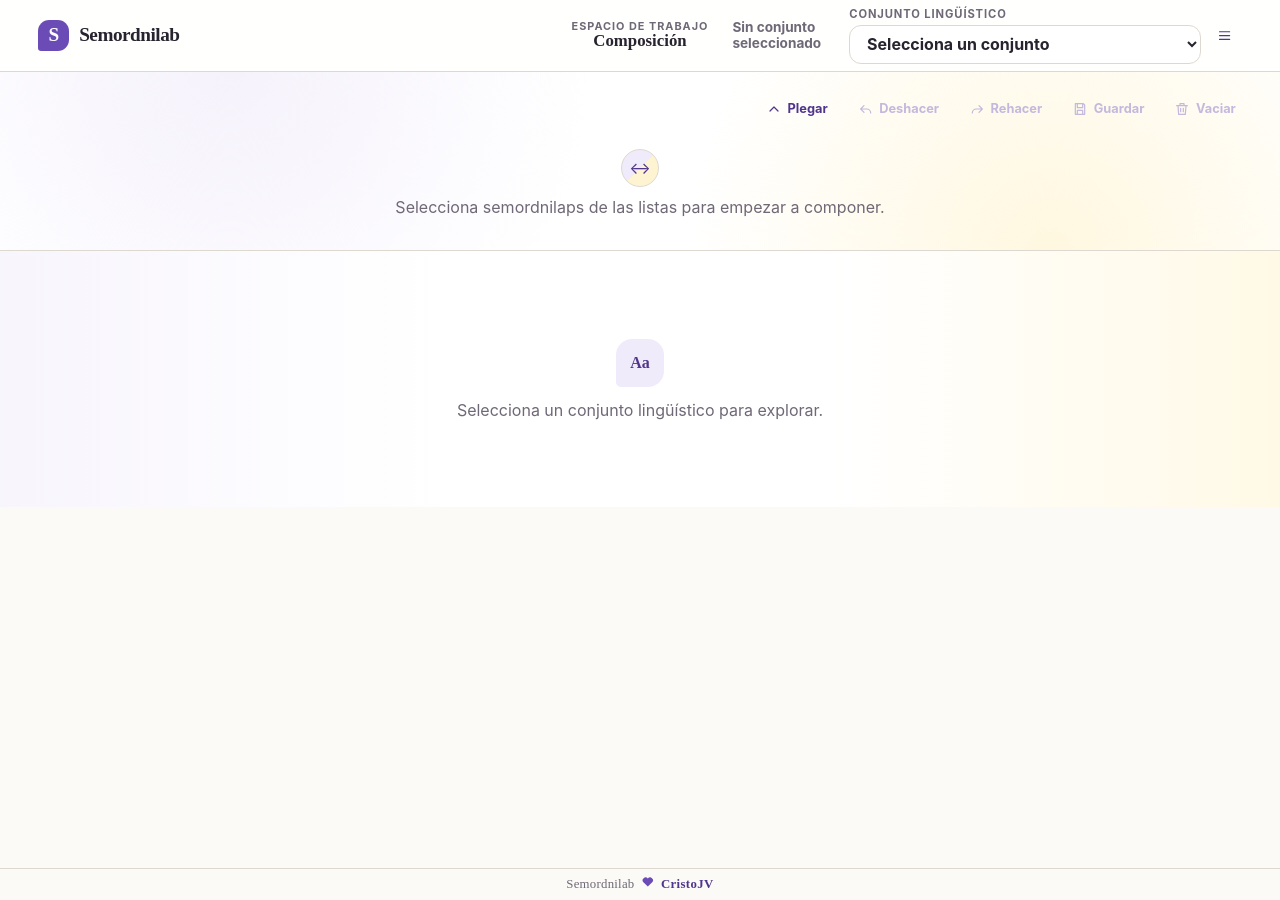
Test: WorkspacePage › mantiene estable un favorito y conserva alineado el catálogo descartado
The image size is (1280, 900).
Select "Español / Gallego" in the dropdown labelled "Conjunto lingüístico": [1025, 44] box [849,25,1201,64]
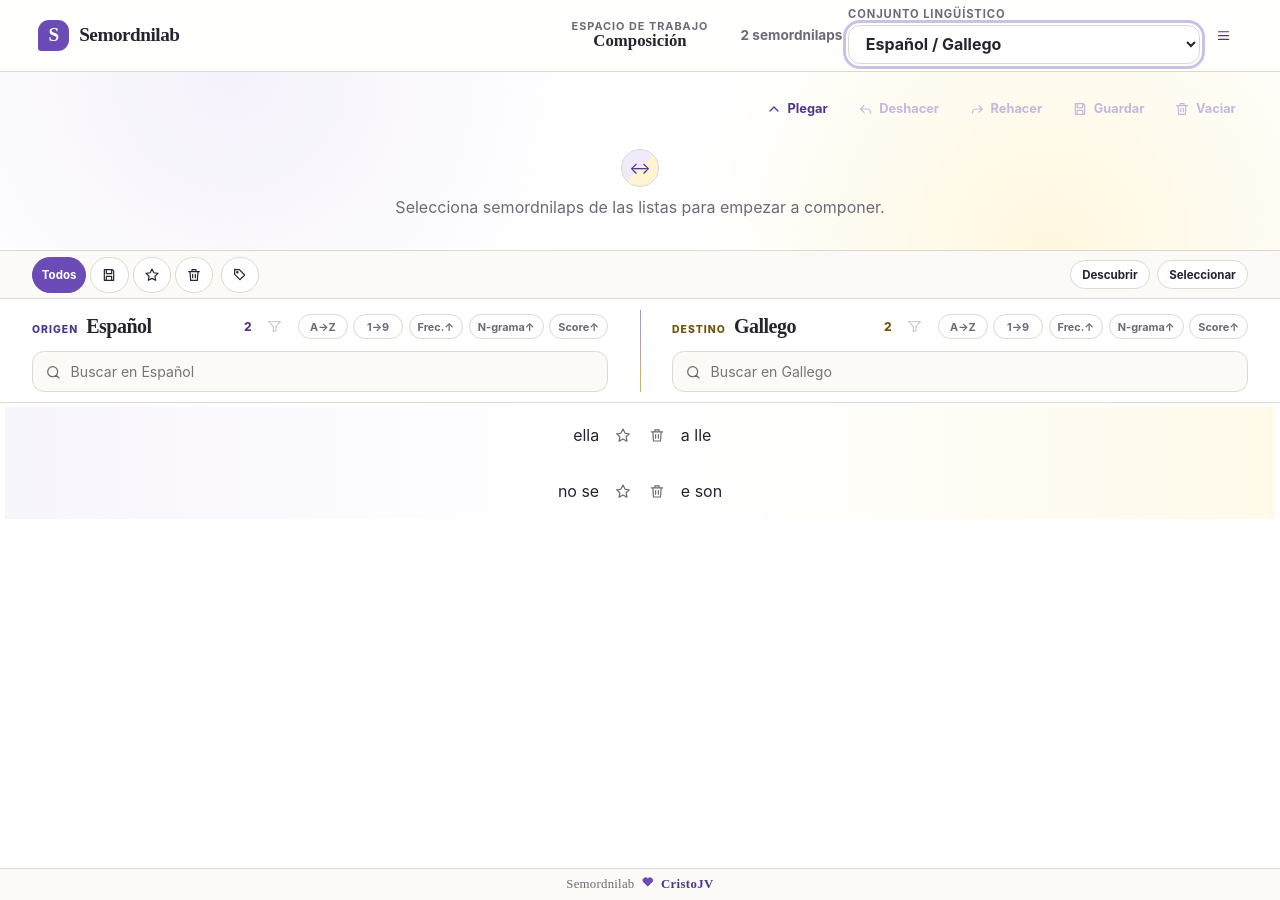
Expected: the button named "Añadir a favoritos: no se / e son" is enabled
Click the button named "Añadir a favoritos: no se / e son": [623, 492] box [608,476,638,507]
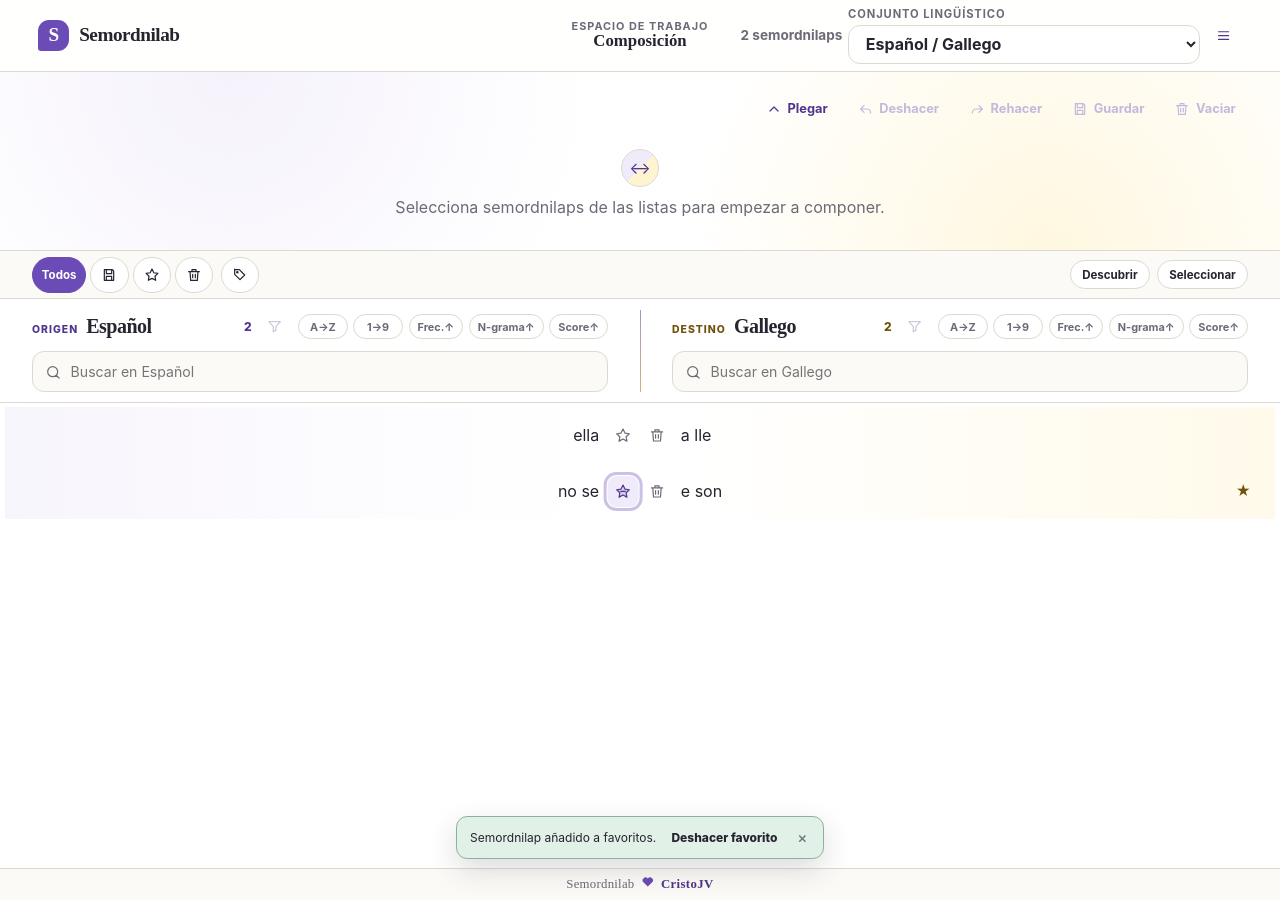
Expected: the list item "ella a lle" is shown, [5,408,1275,464]
Expected: the list item "no se e son ★" is shown, [5,464,1275,520]
Expected: the button named "Quitar de favoritos: no se / e son" is shown, [608,476,638,507]
Click the button "Deshacer favorito": [724, 838] box [667,828,782,847]
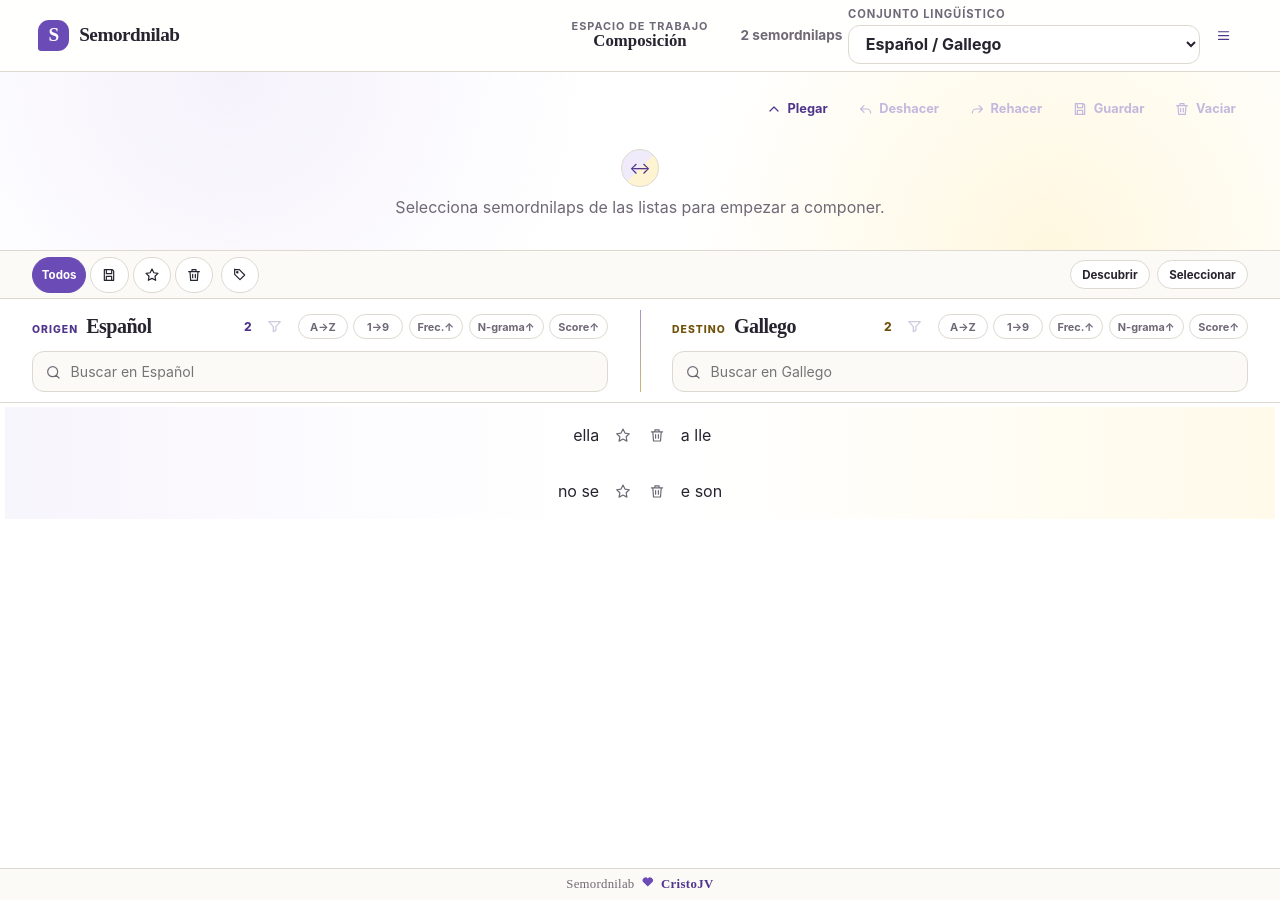
Expected: the button named "Añadir a favoritos: no se / e son" is shown, [608,476,638,507]
Click the button named "Descartar: ella / a lle": [657, 436] box [642,420,672,451]
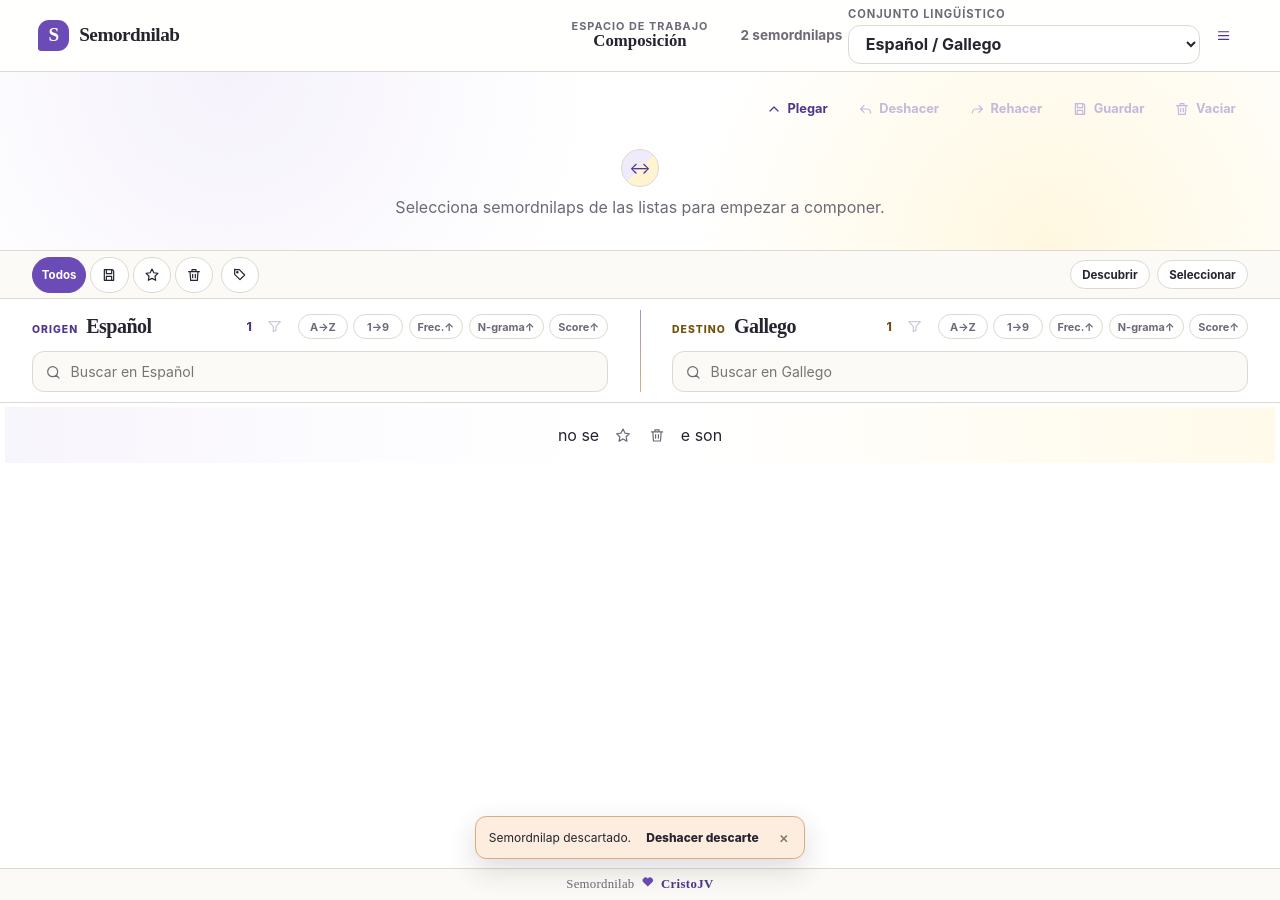
Expected: the list item shows "no se", [5,408,640,464]
Expected: the list item shows "e son", [640,408,1275,464]
Expected: the number of list items is 1, [5,408,1275,464]
Click the button named "Descartados 1": [194, 275] box [175,257,213,293]
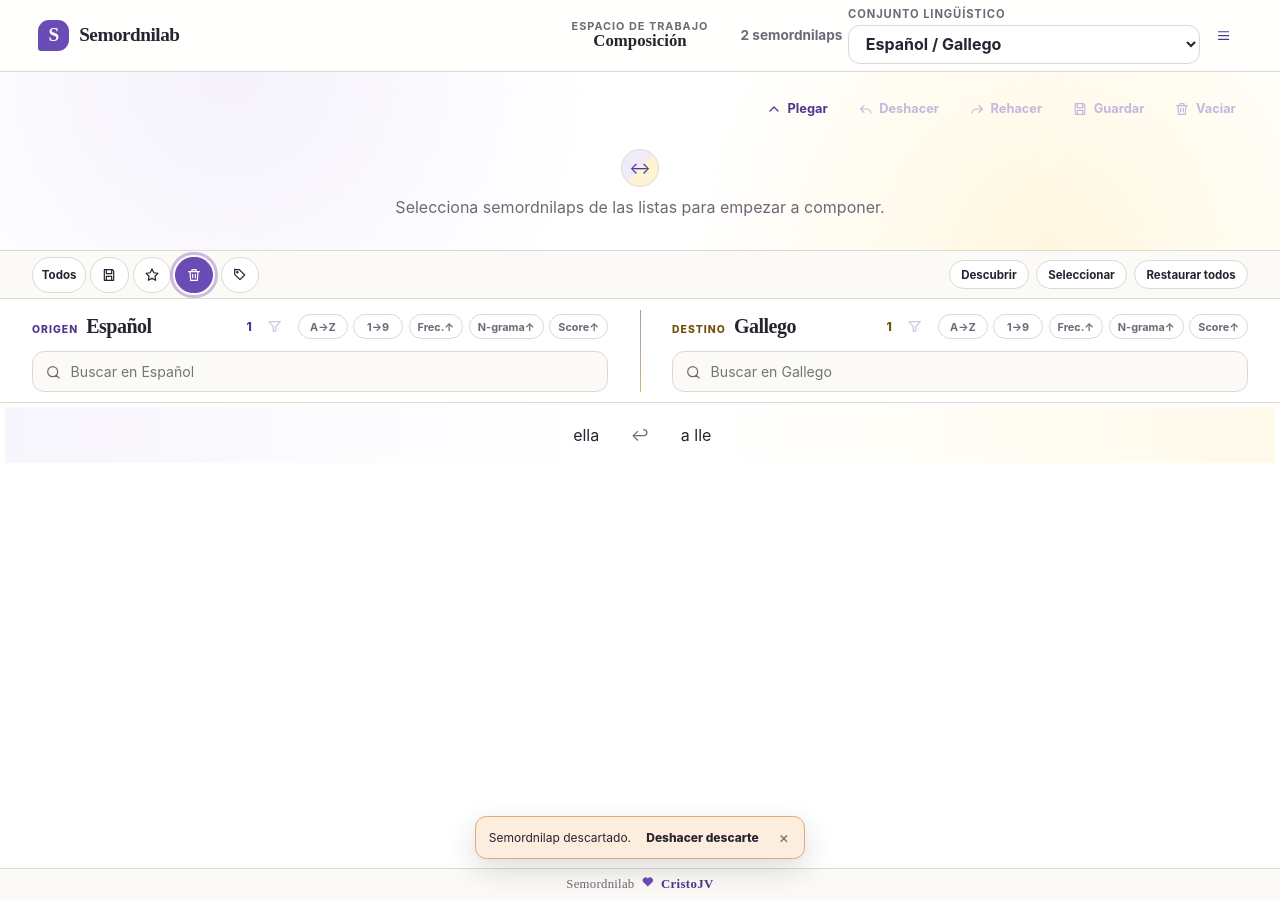
Expected: the text "favoritos" is not shown
Expected: the list item shows "ella", [5,408,640,464]
Expected: the list item shows "a lle", [640,408,1275,464]
Click the button named "Restaurar: ella / a lle": [640, 436] box [625,420,655,451]
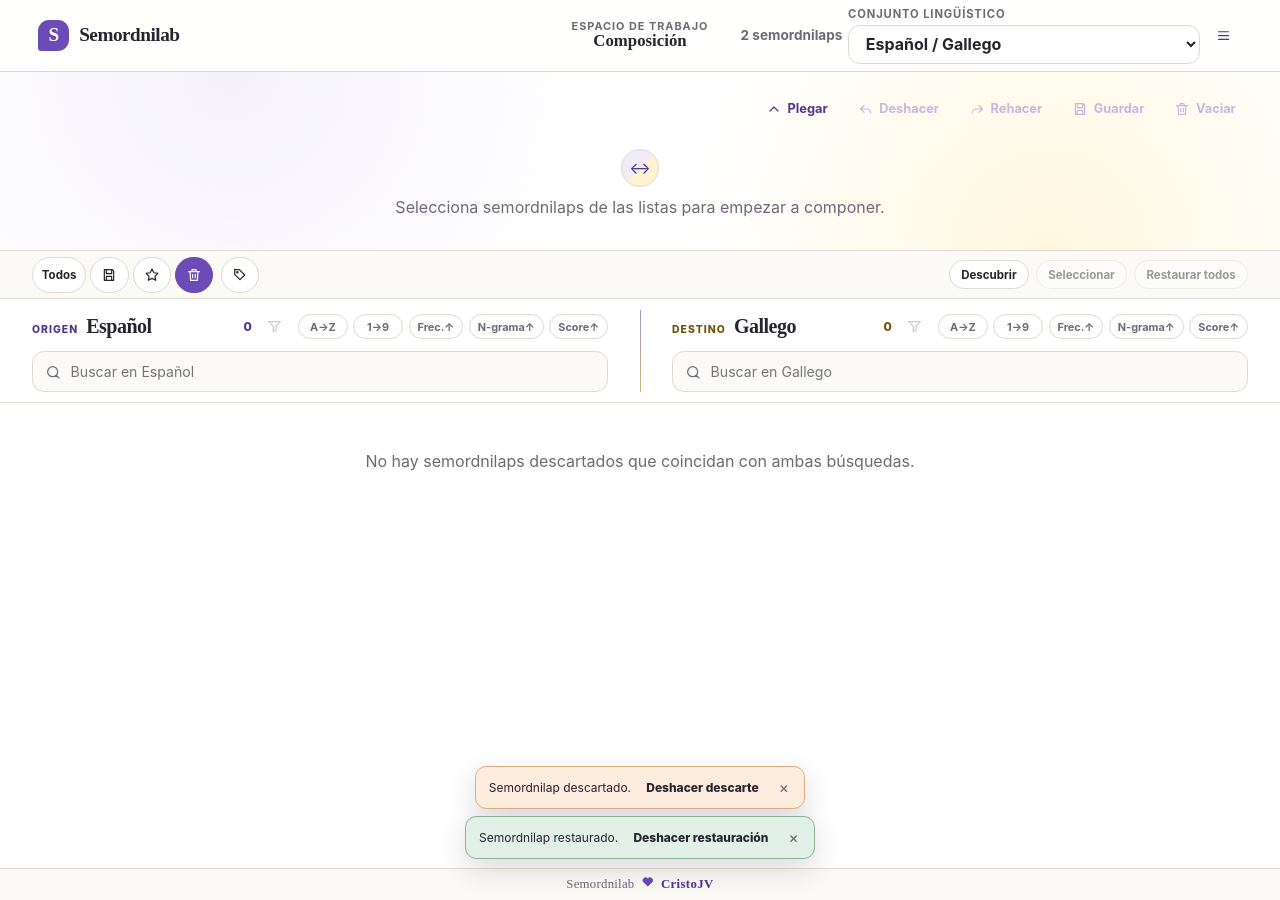
Expected: the text "No hay semordnilaps descartados que coincidan con ambas búsquedas." is shown, [366,451,915,471]
